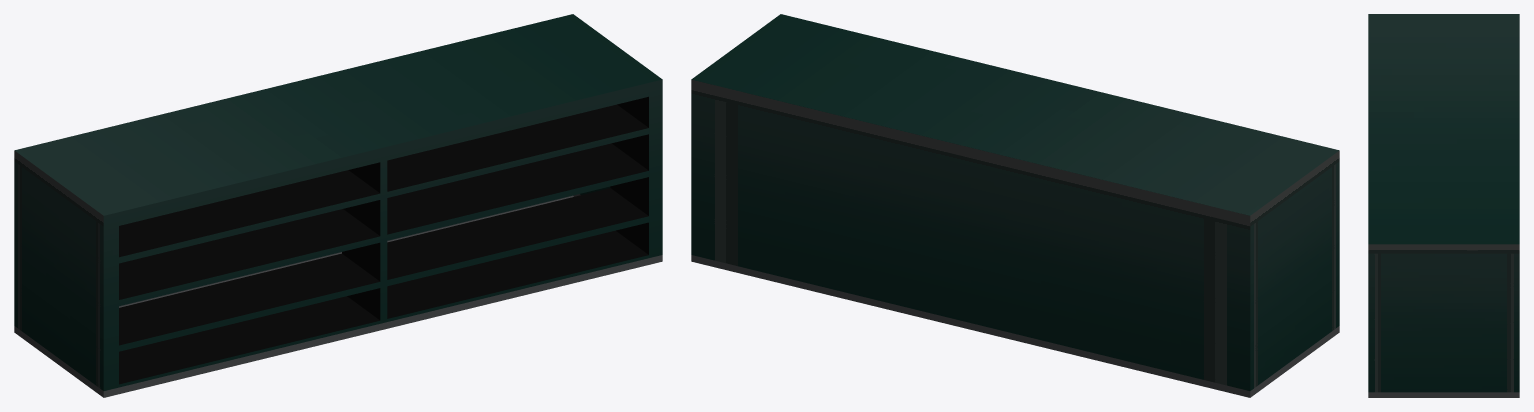
File: Crate_Test(1).glb
3 renders of one model, left to right at view 1: azimuth 30°, elevation 25°; view 2: azimuth 150°, elevation 25°; view 3: azimuth 270°, elevation 25°, orthographic. The views are drawn at different scales.
Visible parts, largest first — view 1: Cube.095; view 2: Cube.095; view 3: Cube.095.
Part boxes in pixels (x1,y1,x2,y2): Cube.095: (14,14,662,397); Cube.095: (691,14,1339,397); Cube.095: (1368,14,1519,397).
Size of the model in its own units: 5.72 by 1.78 by 1.59.
3 materials, 1 textured.
